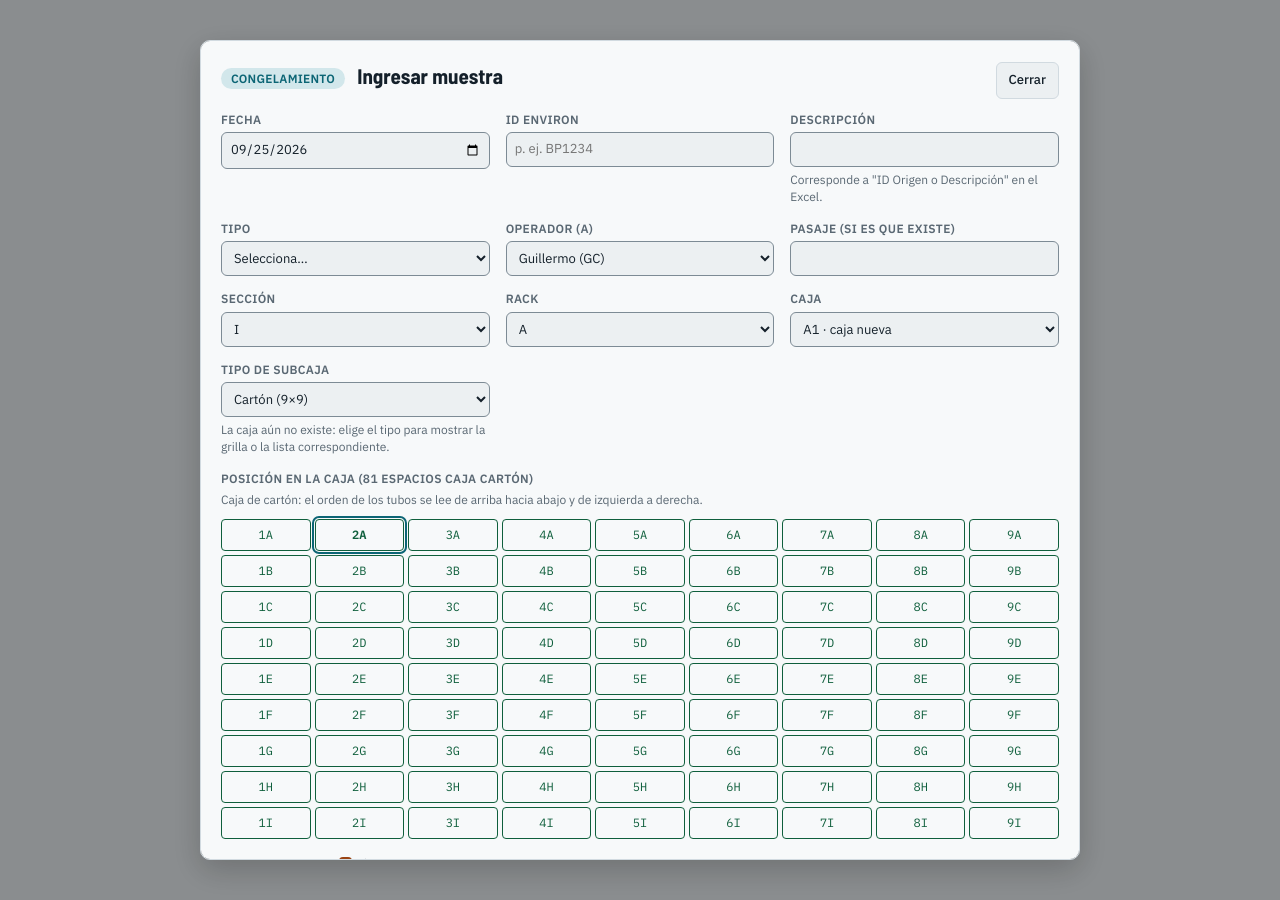
Test: FreezeForm › autocompletado: sugiere los datos de otras muestras con el mismo ID Environ
Type "BP001" into the field labelled "ID Environ".
click(640, 150); type("BP001")  # box 506,132 -> 774,167
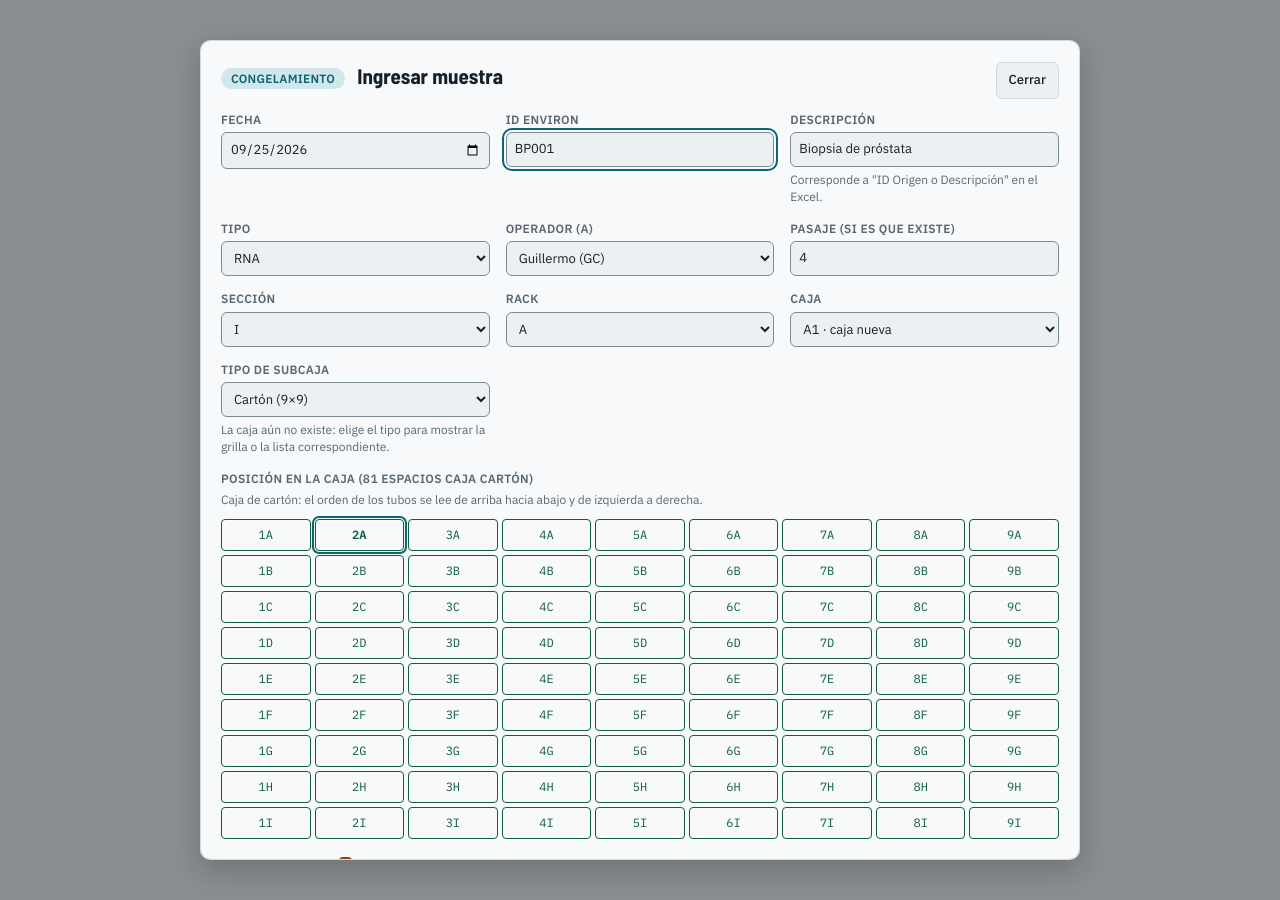
Expected: the dropdown labelled "Caja" shows "A1 · caja nueva", 790,312 -> 1059,347
Expected: the field labelled "Descripción" holds "Biopsia de próstata", 790,132 -> 1059,167
Expected: the dropdown labelled "Tipo" shows "RNA", 221,241 -> 490,276
